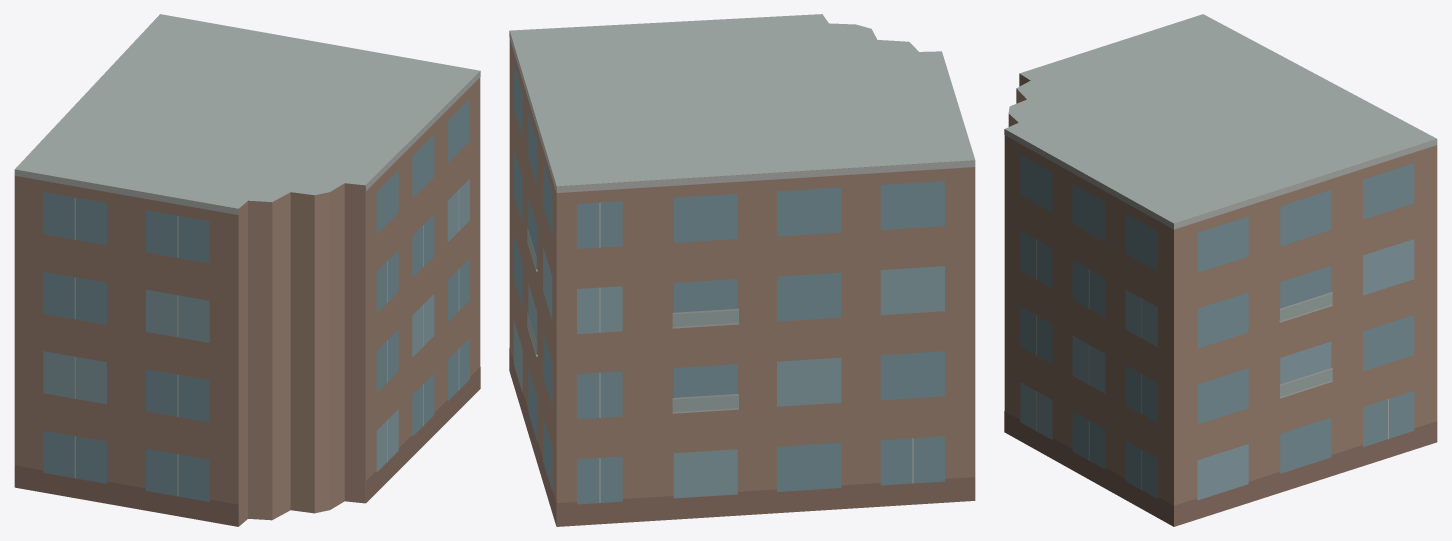
File: survey-upis-32855370.glb
3 renders of one model, left to right at view 1: azimuth 30°, elevation 25°; view 2: azimuth 150°, elevation 25°; view 3: azimuth 270°, elevation 25°, orthographic. The views are drawn at different scales.
Parts seen in each view (by area): view 1: survey-upis-32855370.tmp; view 2: survey-upis-32855370.tmp; view 3: survey-upis-32855370.tmp.
Part boxes in pixels (<box>): survey-upis-32855370.tmp: <box>14,14,480,526</box>; survey-upis-32855370.tmp: <box>509,14,975,526</box>; survey-upis-32855370.tmp: <box>1004,14,1437,526</box>.
Size of the model in its own units: 18.09 by 12.2 by 15.79.
